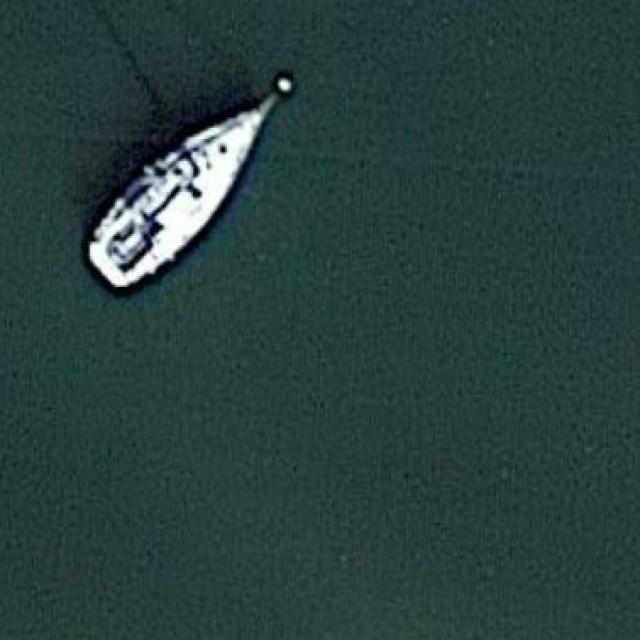ship: (81, 75, 288, 293)
